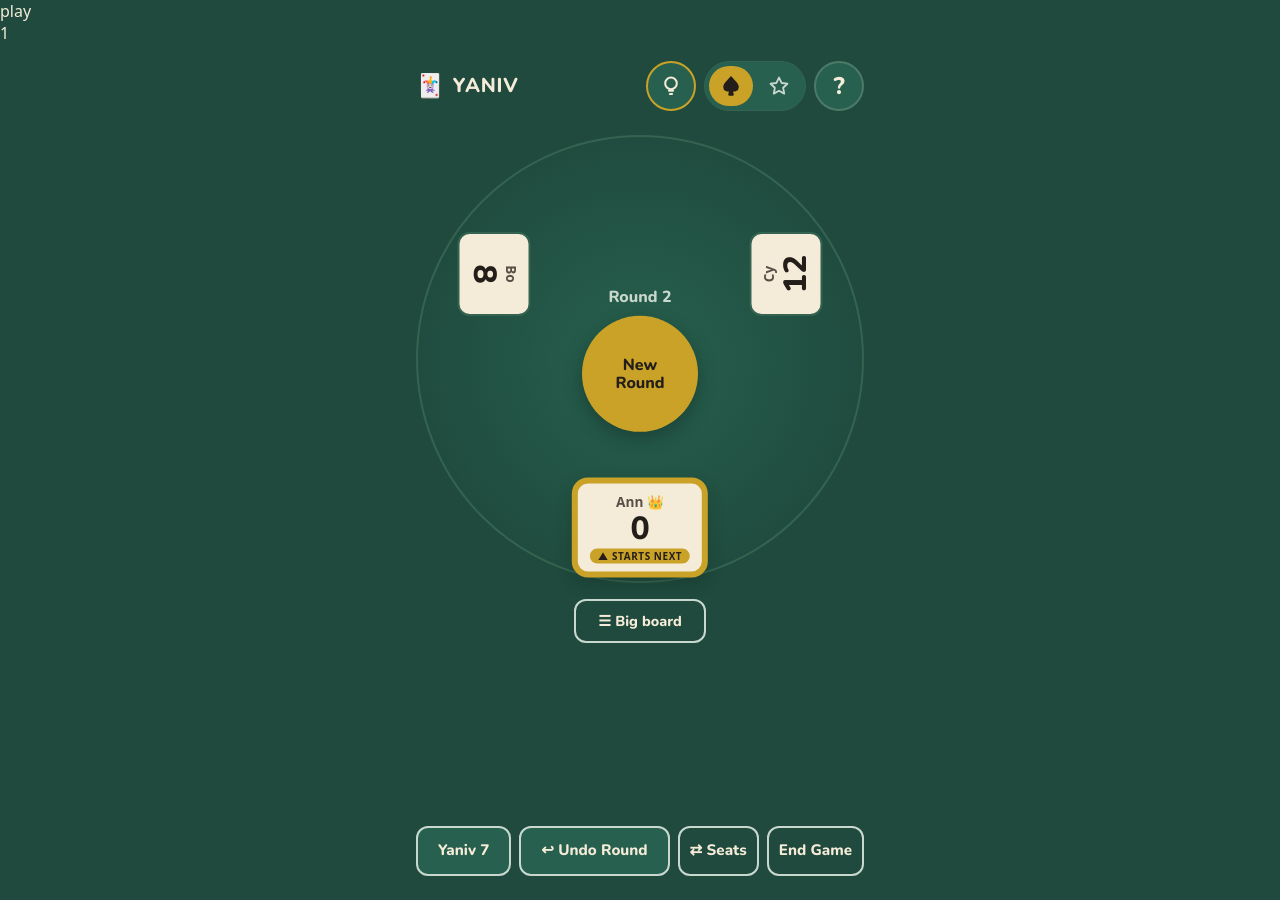
Test case: End game — the confirmation blocks an accidental end › tapping "End game" opens a confirmation and does NOT end the game
Expected: the text with test id "screen" reads "play", 0,0 -> 31,22
Click the button "End Game". click: (815, 851)
box: 767,826 -> 864,876
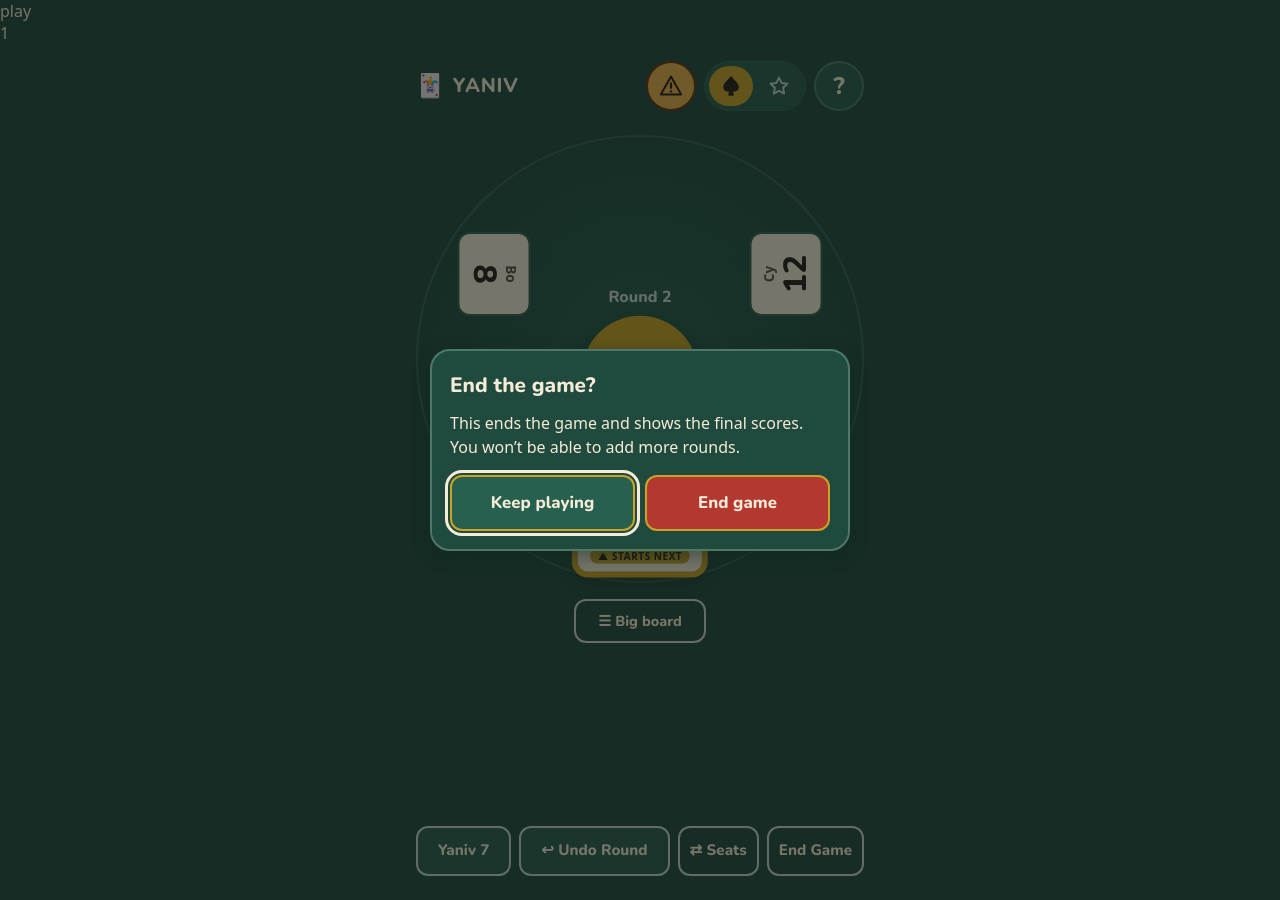
Expected: the text with test id "screen" reads "play", 0,0 -> 31,22
Now the dialog with test id "confirm-end-game" is shown, box 430,349 -> 850,551
